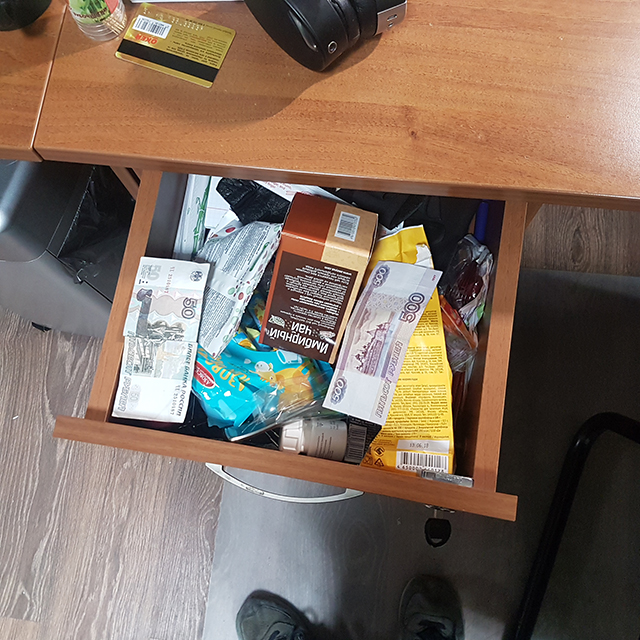banknotes: (323, 260, 443, 424), (111, 257, 210, 422)
